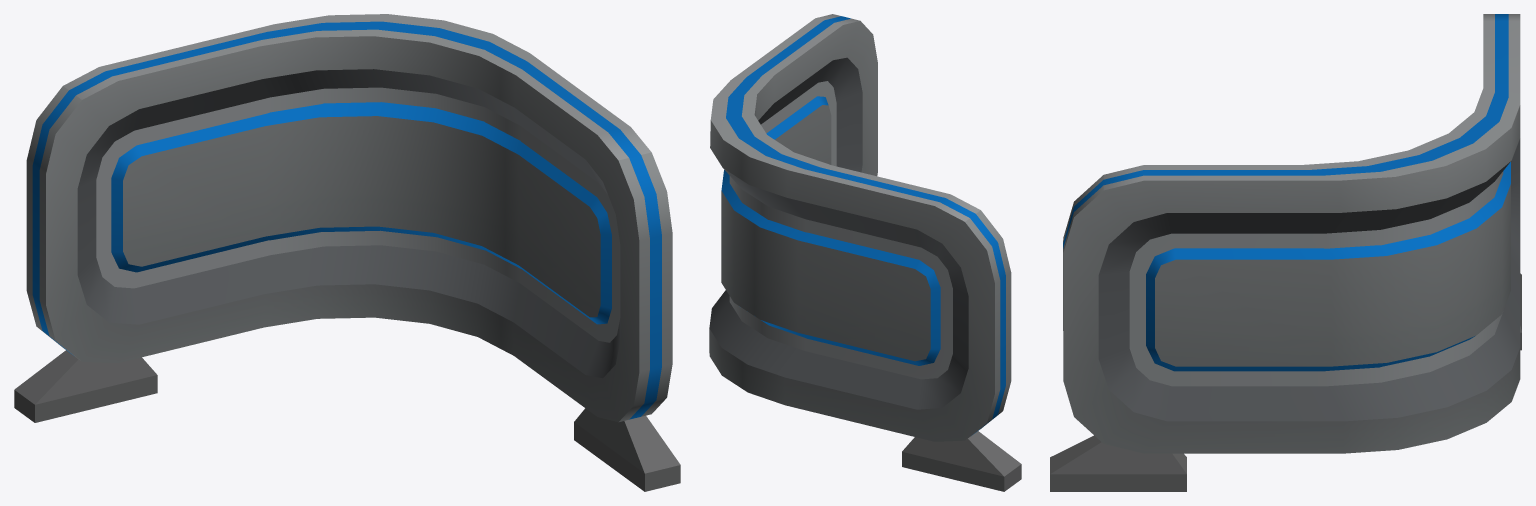
File: Fence_type_C_009.fbx
3 renders of one model, left to right at view 1: azimuth 30°, elevation 25°; view 2: azimuth 150°, elevation 25°; view 3: azimuth 270°, elevation 25°, orthographic. The views are drawn at different scales.
Visible parts, largest first — view 1: Fence_type_C_009; view 2: Fence_type_C_009; view 3: Fence_type_C_009.
Part boxes in pixels (x1,y1,x2,y2): Fence_type_C_009: (14, 14, 680, 491); Fence_type_C_009: (709, 14, 1021, 491); Fence_type_C_009: (1050, 14, 1521, 491).
Bounding box in the file's own units: 195 × 194 × 141.
